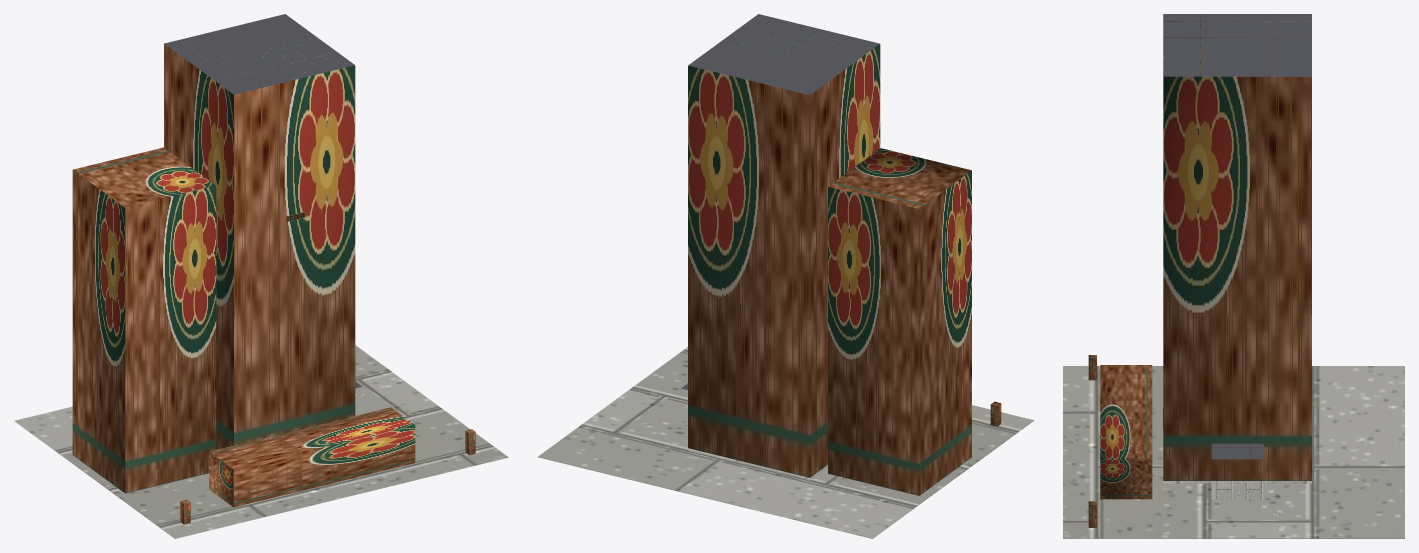
The picture shows the model from 3 angles, left to right: view 1: azimuth 30°, elevation 25°; view 2: azimuth 150°, elevation 25°; view 3: azimuth 270°, elevation 25°; orthographic projection. The views are drawn at different scales.
Parts seen in each view (by area): view 1: 11680_01_06167_011_02_L2__body, 11680_01_06167_011_01_L2__base, 11680_01_06167_011_03_L2__roof; view 2: 11680_01_06167_011_02_L2__body, 11680_01_06167_011_01_L2__base, 11680_01_06167_011_03_L2__roof; view 3: 11680_01_06167_011_02_L2__body, 11680_01_06167_011_01_L2__base, 11680_01_06167_011_03_L2__roof, 11680_01_06167_011_06_L2__green.
Boxes of the visible parts, bbox=[...] form: 11680_01_06167_011_02_L2__body: bbox=[72, 18, 415, 507]; 11680_01_06167_011_01_L2__base: bbox=[14, 345, 508, 538]; 11680_01_06167_011_03_L2__roof: bbox=[164, 14, 362, 388]; 11680_01_06167_011_02_L2__body: bbox=[688, 18, 971, 495]; 11680_01_06167_011_01_L2__base: bbox=[537, 347, 1034, 538]; 11680_01_06167_011_03_L2__roof: bbox=[681, 14, 879, 390]; 11680_01_06167_011_02_L2__body: bbox=[1100, 14, 1311, 499]; 11680_01_06167_011_01_L2__base: bbox=[1063, 366, 1404, 538]; 11680_01_06167_011_03_L2__roof: bbox=[1163, 14, 1311, 459]; 11680_01_06167_011_06_L2__green: bbox=[1088, 355, 1096, 527].
Bounding box in the file's own units: 110 × 121 × 92.
Materials: 5 (5 with a texture image).
